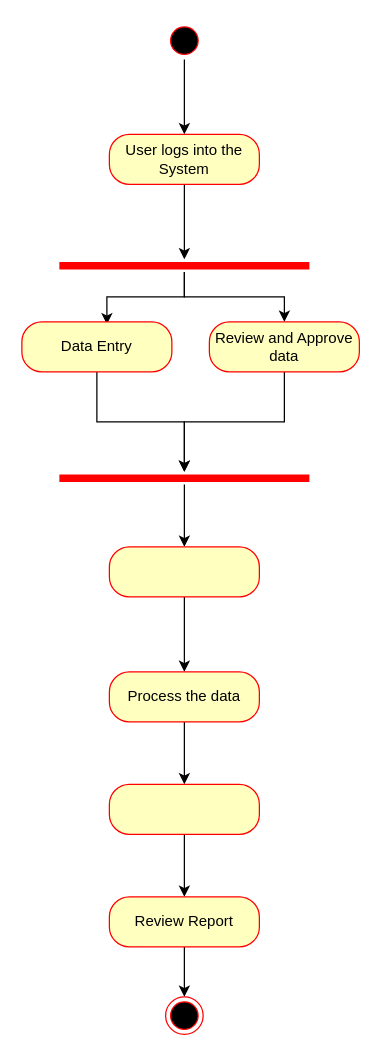
The diagram is 381 pixels wide and 1056 high, and some of its shapes have lost their labels. The box of each missing label's shape, as (x1, y1, x2, y2) in pixels:
Data Validation: (108, 546, 259, 597)
Generate Report: (108, 783, 259, 834)
